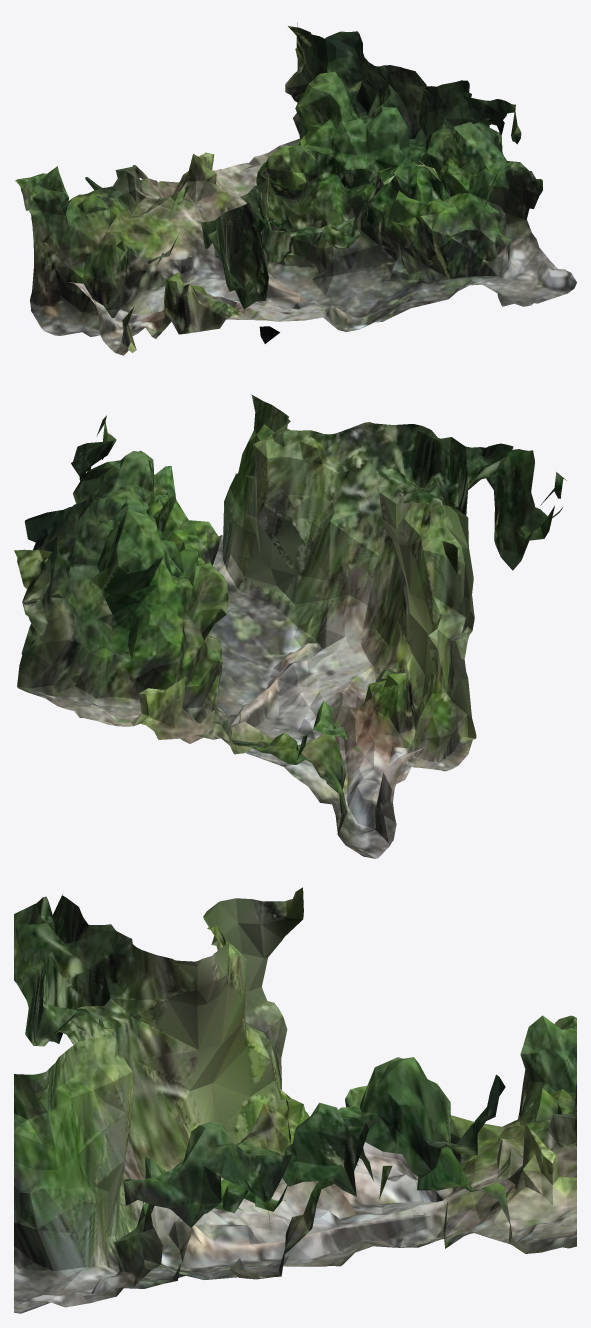
The picture shows the model from 3 angles, top to bottom: view 1: azimuth 30°, elevation 25°; view 2: azimuth 150°, elevation 25°; view 3: azimuth 270°, elevation 25°; orthographic projection. The views are drawn at different scales.
Size of the model in its own units: 26.11 by 15.63 by 26.11.
5 materials, 5 textured.
